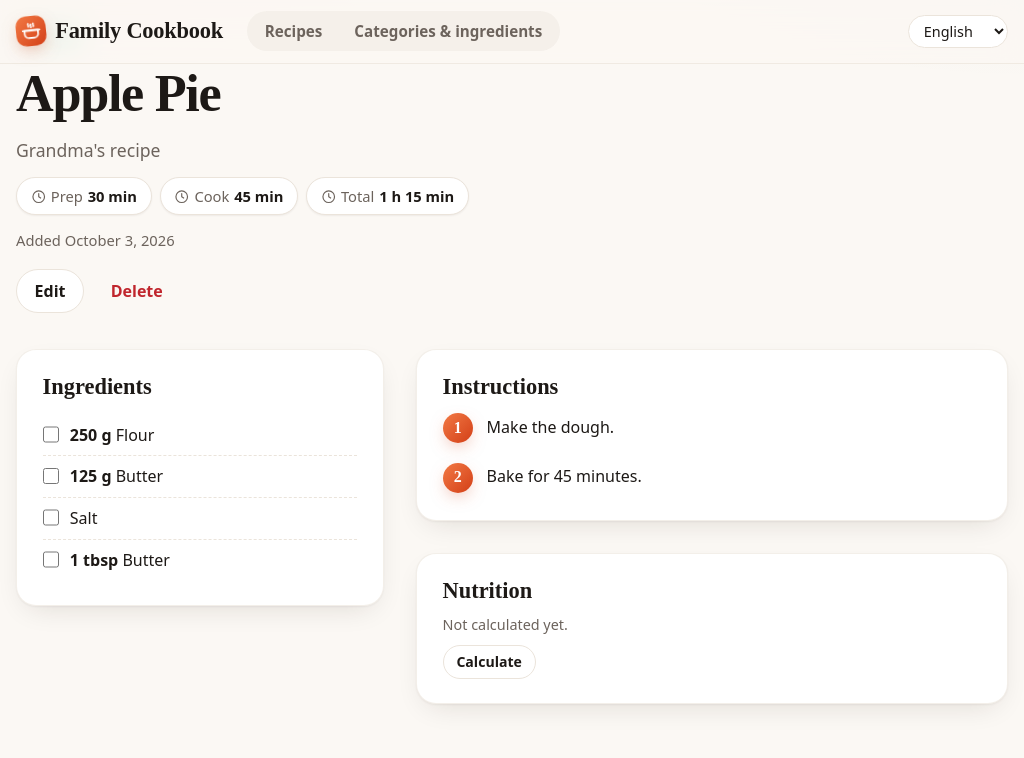
RecipeDetailPage › calculates the nutrition on request when there is none yet
(page scrolled)
Check: the text "Not calculated yet." is shown, box [443,615,568,634]
Click the button "Calculate" at (489, 662), box [443,646,536,679]
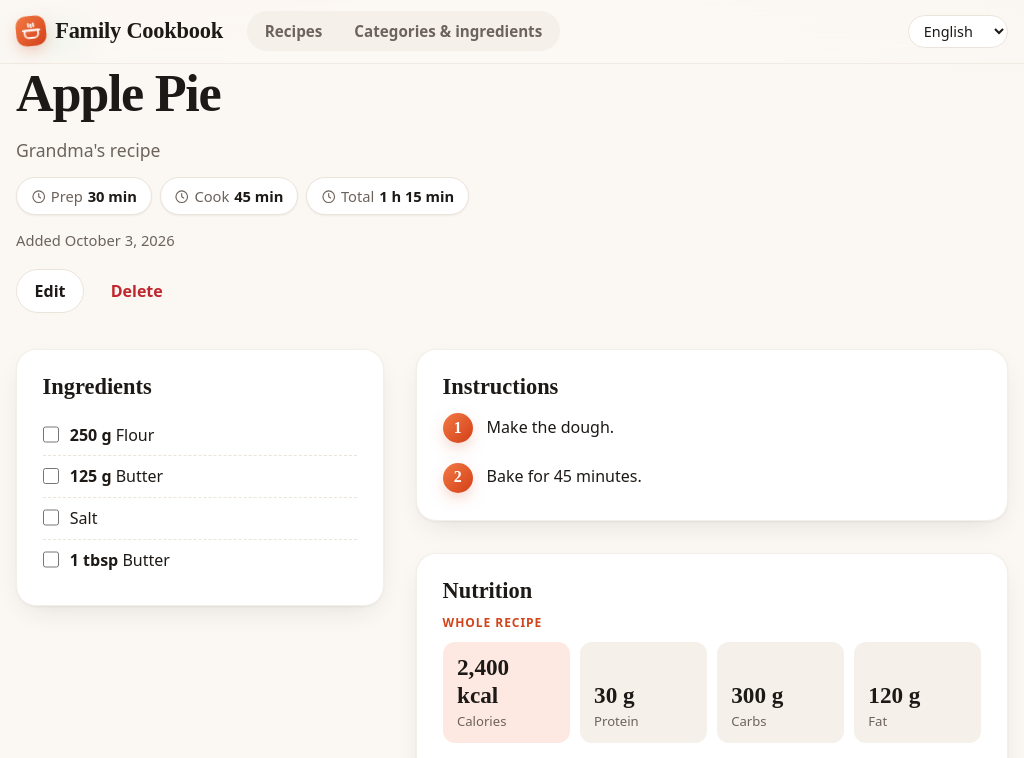
Check: the text "2,400 kcal" is shown, box [457,654,509,708]
Check: the text "Whole recipe" is shown, box [443,614,542,631]
